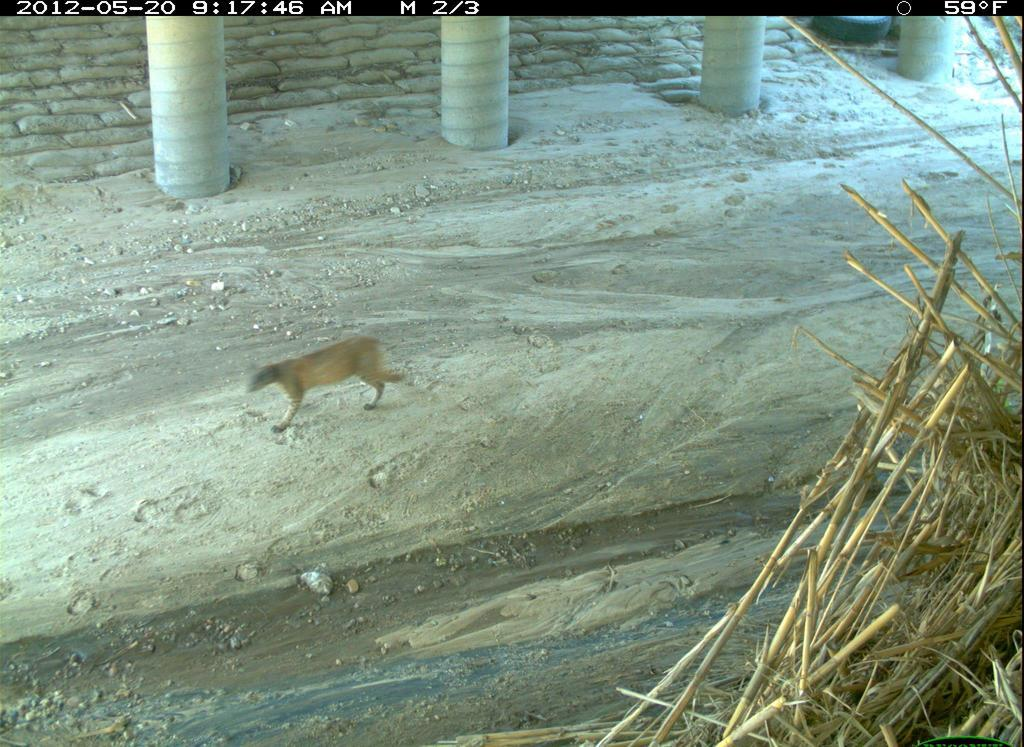bobcat: (231, 331, 419, 441)
